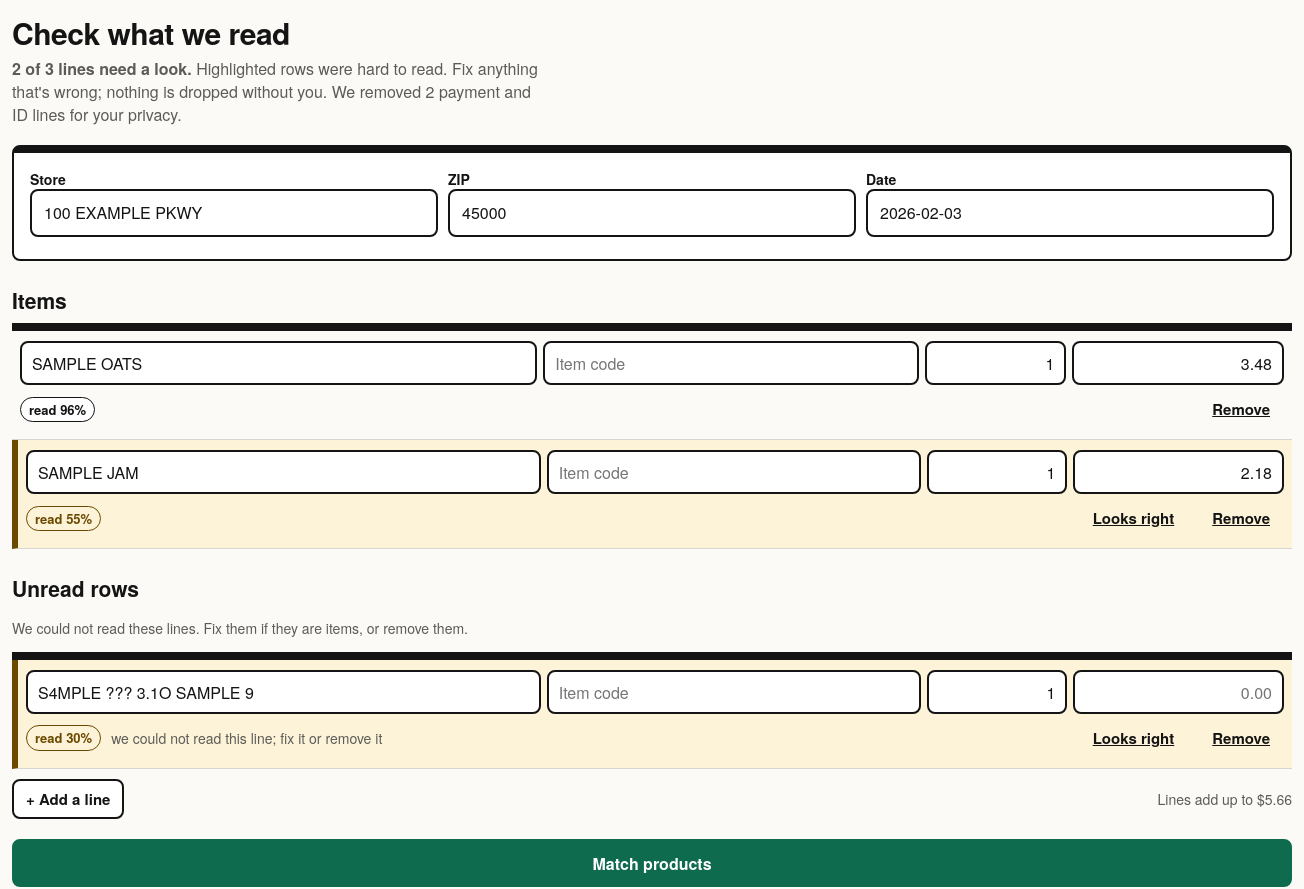
Test: Check what we read › shows "x of y lines need a look", highlights them, every field editable; fixing clears it
Check: the text with test id "need-look" reads "2 of 3 lines need a look.", box [12, 57, 192, 80]
Check: the text "read 55%" is shown, box [26, 506, 101, 531]
Click the button "Looks right" in the row of "read 55%" at (1133, 518), box [1079, 498, 1188, 538]
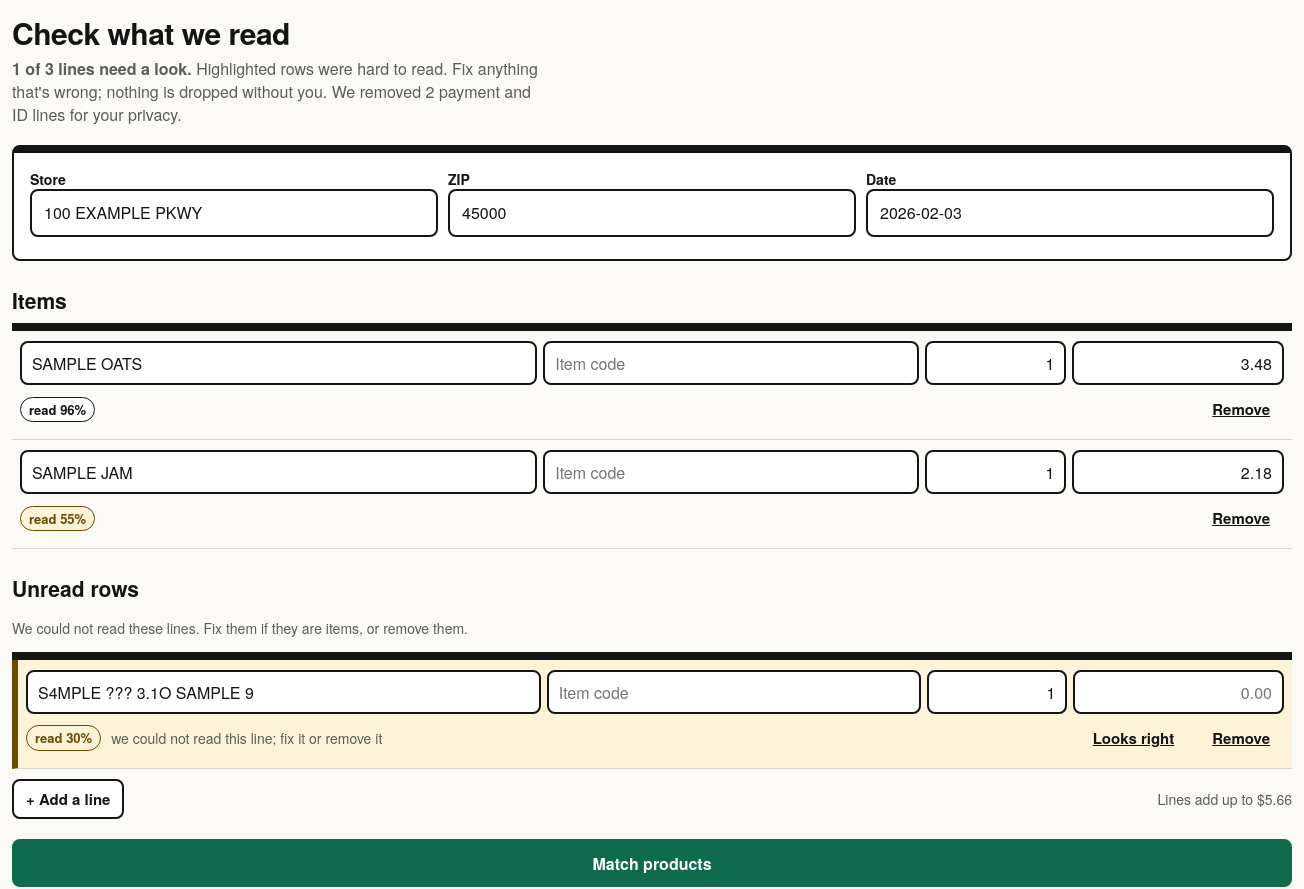
Check: the text with test id "need-look" reads "1 of 3 lines need a look.", box [12, 57, 192, 80]
Replace the text in the 7th field named "name" with "SAMPLE TEA" at (283, 692), box [26, 670, 541, 714]
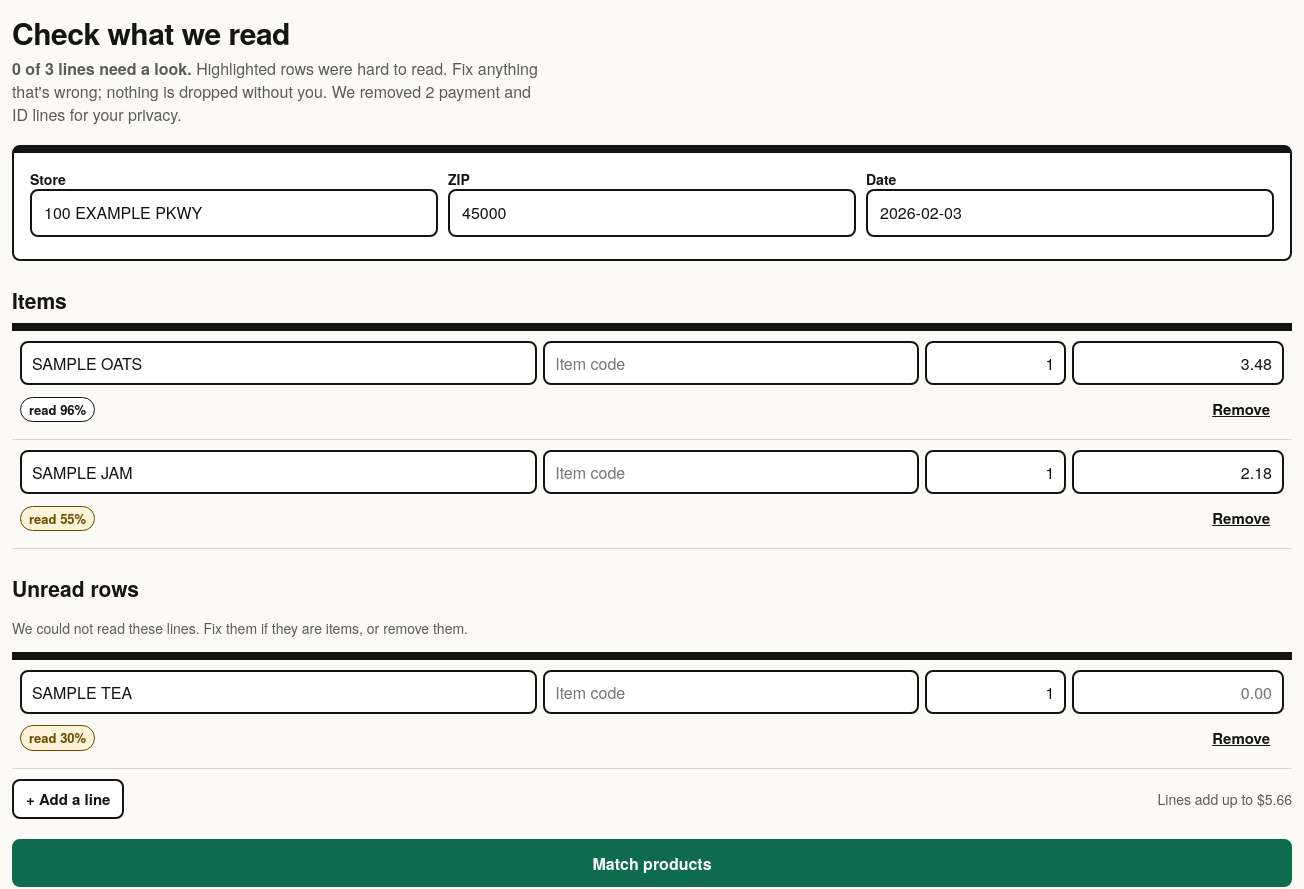
Type "3.10" into the field named "Price" at (1178, 692), box [1072, 670, 1284, 714]
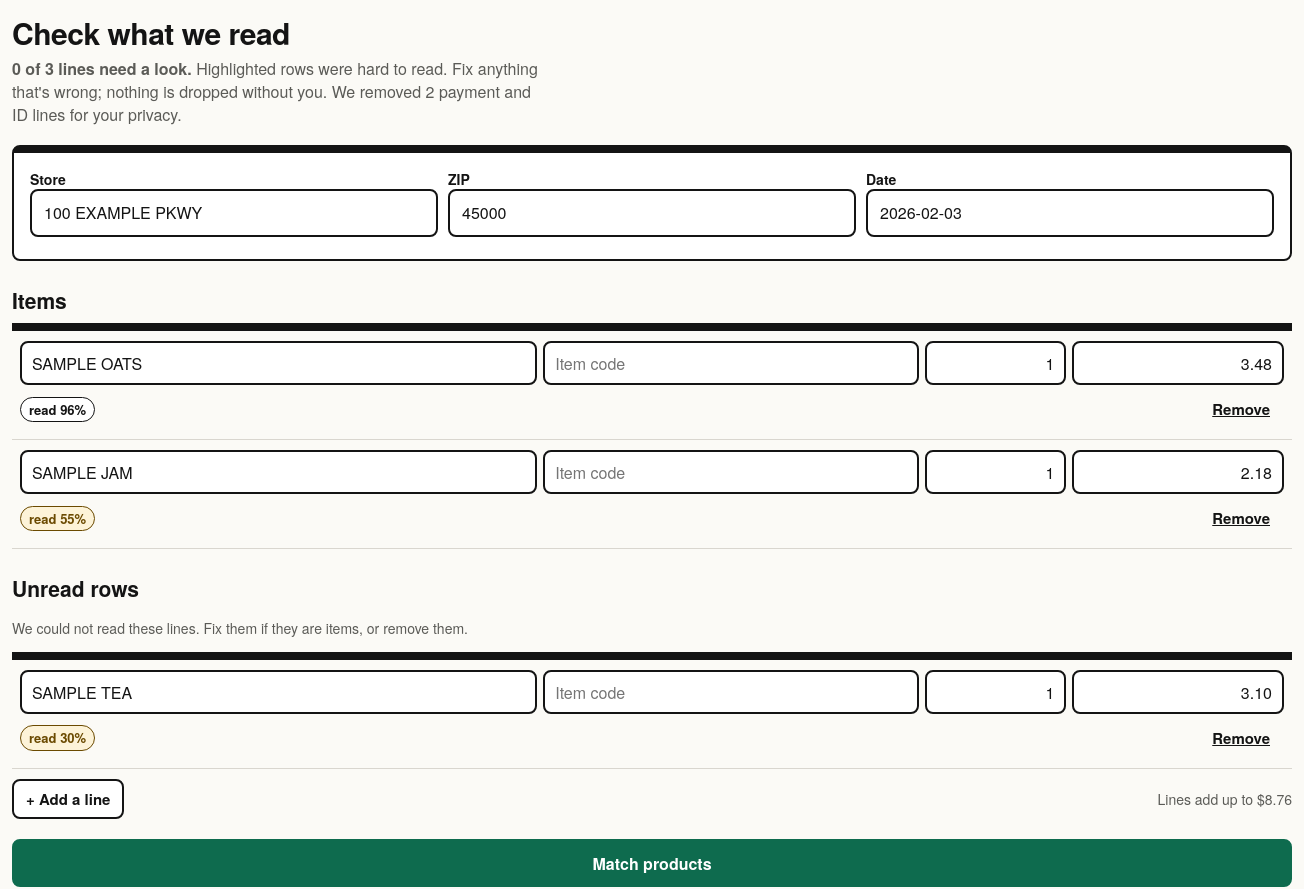
Check: the text with test id "need-look" reads "0 of 3 lines need a look.", box [12, 57, 192, 80]
Click the button "+ Add a line" at (68, 799), box [12, 779, 124, 819]
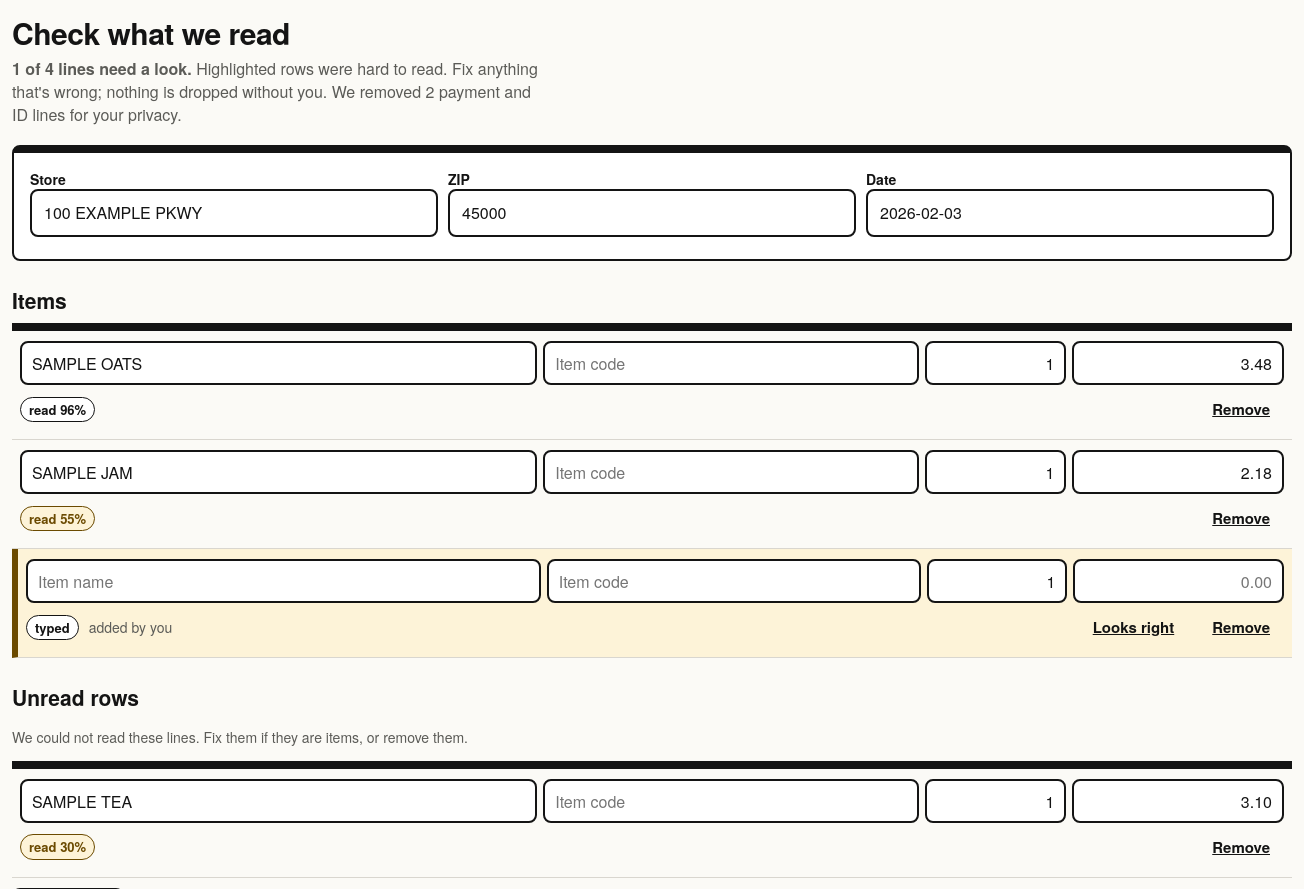
Check: the number of list items with test id "receipt-row" is 4, box [12, 331, 1292, 440]; [12, 440, 1292, 549]; [12, 549, 1292, 658]; [12, 769, 1292, 878]
Check: the text with test id "need-look" reads "1 of 4 lines need a look.", box [12, 57, 192, 80]
